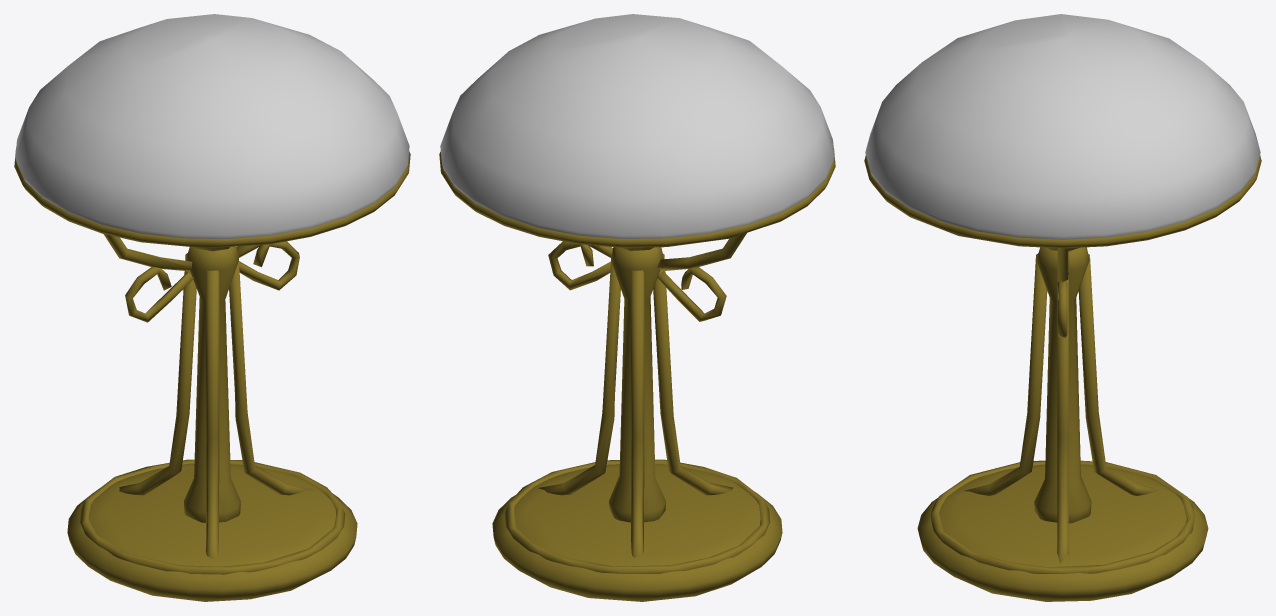
Rendered from 08_Jade_Lamp.fbx.
3 renders of one model, left to right at view 1: azimuth 30°, elevation 25°; view 2: azimuth 150°, elevation 25°; view 3: azimuth 270°, elevation 25°, orthographic.
Parts seen in each view (by area): view 1: 08_Jade_Lamp; view 2: 08_Jade_Lamp; view 3: 08_Jade_Lamp.
Boxes of the visible parts, x1,y1,x2,y2 form: 08_Jade_Lamp: (14, 14, 410, 601); 08_Jade_Lamp: (439, 14, 835, 601); 08_Jade_Lamp: (864, 14, 1261, 601).
Size of the model in its own units: 0.388 by 0.5502 by 0.388.
